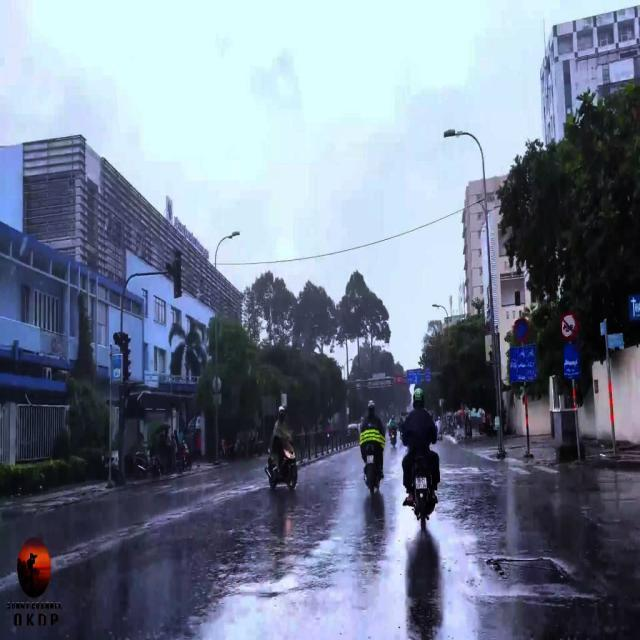128-cam-su-dung-coi: (562, 311, 578, 339)
